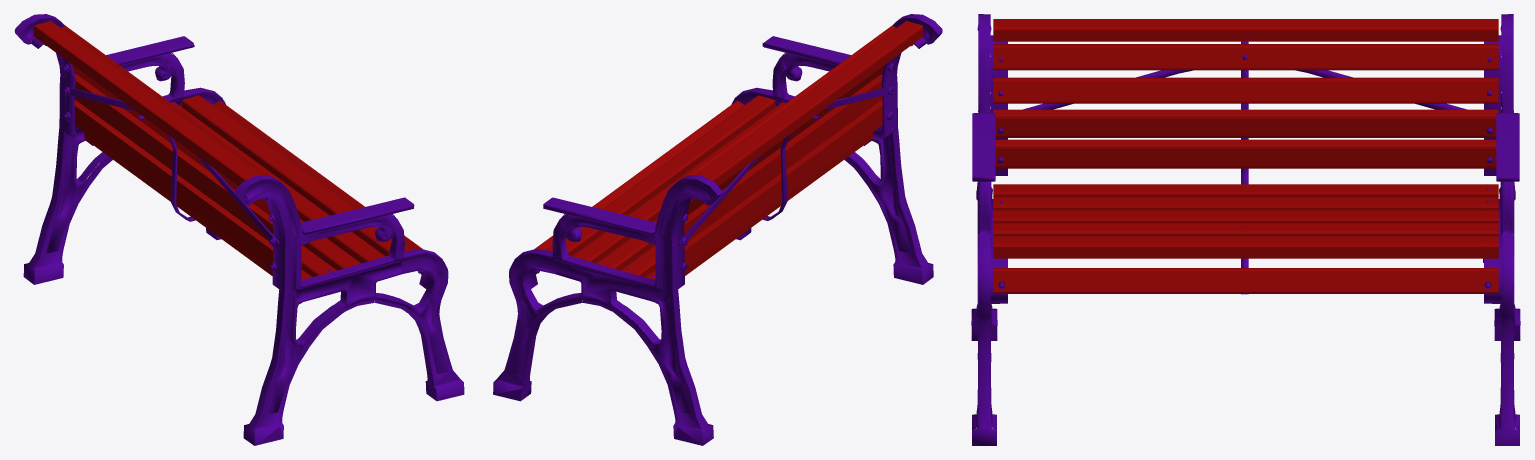
The model's file is bench.obj.
The picture shows the model from 3 angles, left to right: view 1: azimuth 30°, elevation 25°; view 2: azimuth 150°, elevation 25°; view 3: azimuth 270°, elevation 25°; orthographic projection. The views are drawn at different scales.
Parts seen in each view (by area): view 1: Bench_Wood_Frame, Bench_Wood_Planks; view 2: Bench_Wood_Frame, Bench_Wood_Planks; view 3: Bench_Wood_Planks, Bench_Wood_Frame.
Part boxes in pixels (x1,y1,x2,y2): Bench_Wood_Frame: [14, 14, 464, 445]; Bench_Wood_Planks: [34, 21, 427, 279]; Bench_Wood_Frame: [493, 14, 942, 445]; Bench_Wood_Planks: [534, 21, 923, 279]; Bench_Wood_Planks: [993, 19, 1498, 293]; Bench_Wood_Frame: [971, 14, 1520, 445].
Size of the model in its own units: 1.39 by 1.57 by 2.5.
